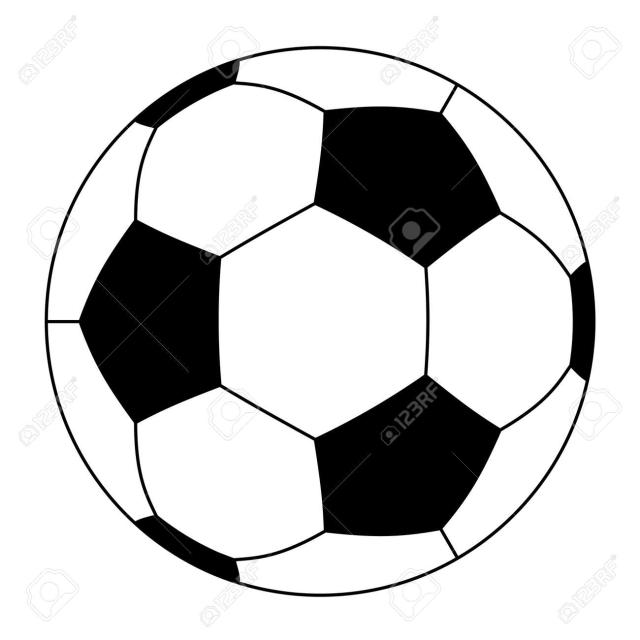soccer ball: (46, 47, 594, 595)
